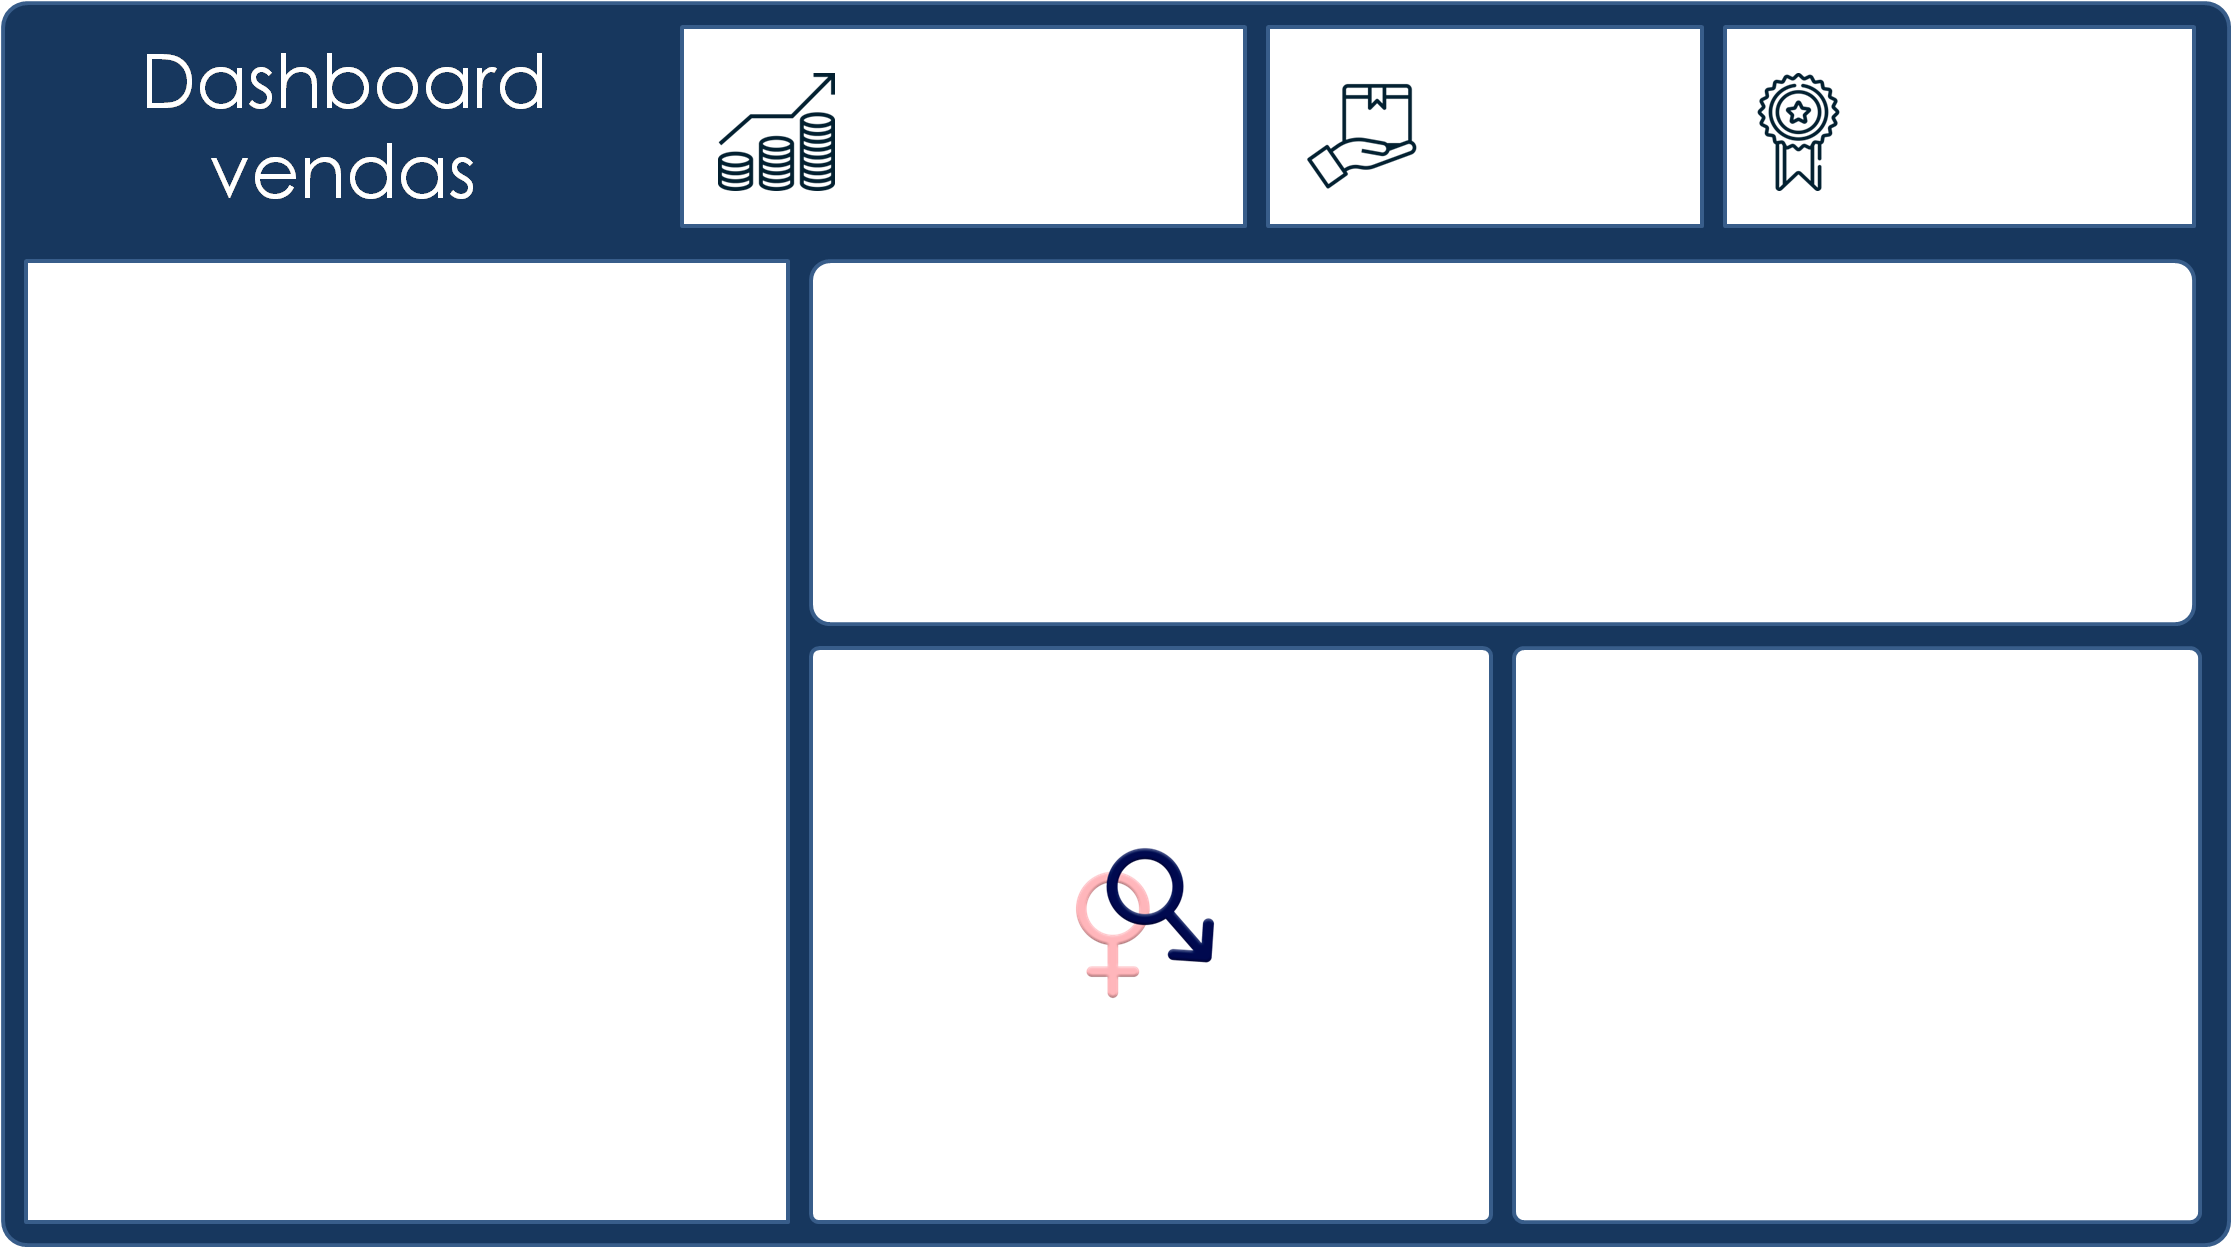

What the dashboard file says about the page in this screenshot:
{"tool":"powerbi","page":{"name":"Página 1","canvas":[1280,720],"ordinal":0},"visuals":[{"type":"card","fields":{"Values":["Sum(Mesclar1.Faturamento)"]},"box":[501,22.2,195.1,90.4],"z":0},{"type":"card","fields":{"Values":["Sum(Mesclar1.Qtd Vendida)"]},"box":[826.4,22.2,138.3,90.4],"z":1000},{"type":"card","fields":{"Values":["Min(Mesclar1.Produto)"]},"box":[1064.9,22.2,180,90.4],"z":2000},{"type":"barChart","fields":{"Y":["Sum(Mesclar1.Faturamento)"],"Category":["Mesclar1.Produto"]},"box":[28.4,166.7,415,527.6],"z":3000},{"type":"columnChart","fields":{"Y":["Sum(Mesclar1.Faturamento)"],"Category":["Mesclar1.Data.Variation.Hierarquia de datas.Mês"]},"box":[485.9,159.6,759,182.7],"z":4000},{"type":"donutChart","fields":{"Y":["Sum(Mesclar1.Qtd Vendida)"],"Category":["Mesclar1.Gênero"]},"box":[474.4,383.9,373.3,310.3],"z":5000},{"type":"map","fields":{"Category":["Mesclar1.Estado"],"Size":["Sum(Mesclar1.Faturamento)"]},"box":[878.7,383.9,373.3,310.3],"z":6000}]}

Visuals, with their boxes in screenshot pixels (x1, y1, x2, y2), scaled from the page's 1280x720 canvas onto the 2232x1248 screenshot:
card - Sum(Mesclar1.Faturamento): (left=874, top=38, right=1214, bottom=195)
card - Sum(Mesclar1.Qtd Vendida): (left=1441, top=38, right=1682, bottom=195)
card - Min(Mesclar1.Produto): (left=1857, top=38, right=2171, bottom=195)
barChart - Sum(Mesclar1.Faturamento) x Mesclar1.Produto: (left=50, top=289, right=773, bottom=1203)
columnChart - Sum(Mesclar1.Faturamento) x Mesclar1.Data.Variation.Hierarquia de datas.Mês: (left=847, top=277, right=2171, bottom=593)
donutChart - Sum(Mesclar1.Qtd Vendida) x Mesclar1.Gênero: (left=827, top=665, right=1478, bottom=1203)
map - Mesclar1.Estado x Sum(Mesclar1.Faturamento): (left=1532, top=665, right=2183, bottom=1203)
